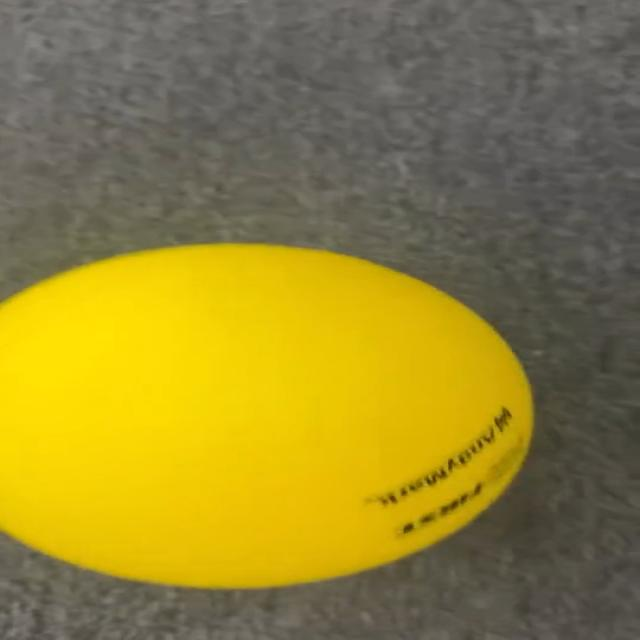Fuels: (4, 244, 535, 586)
